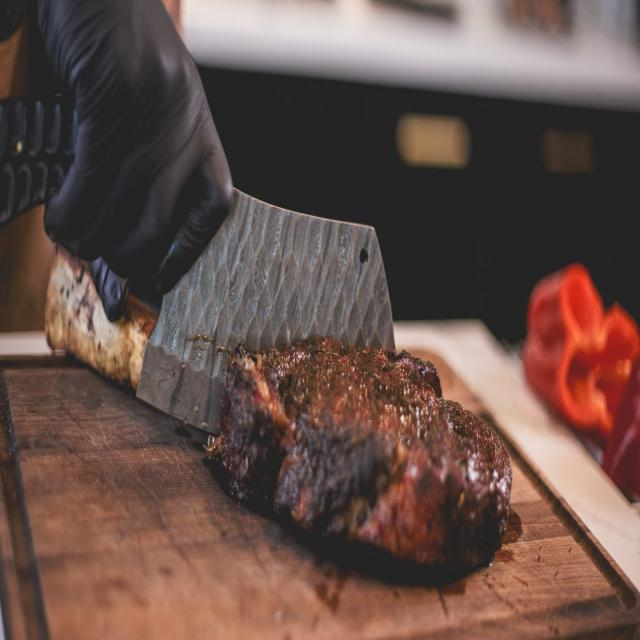cleaver: (0, 0, 422, 446)
